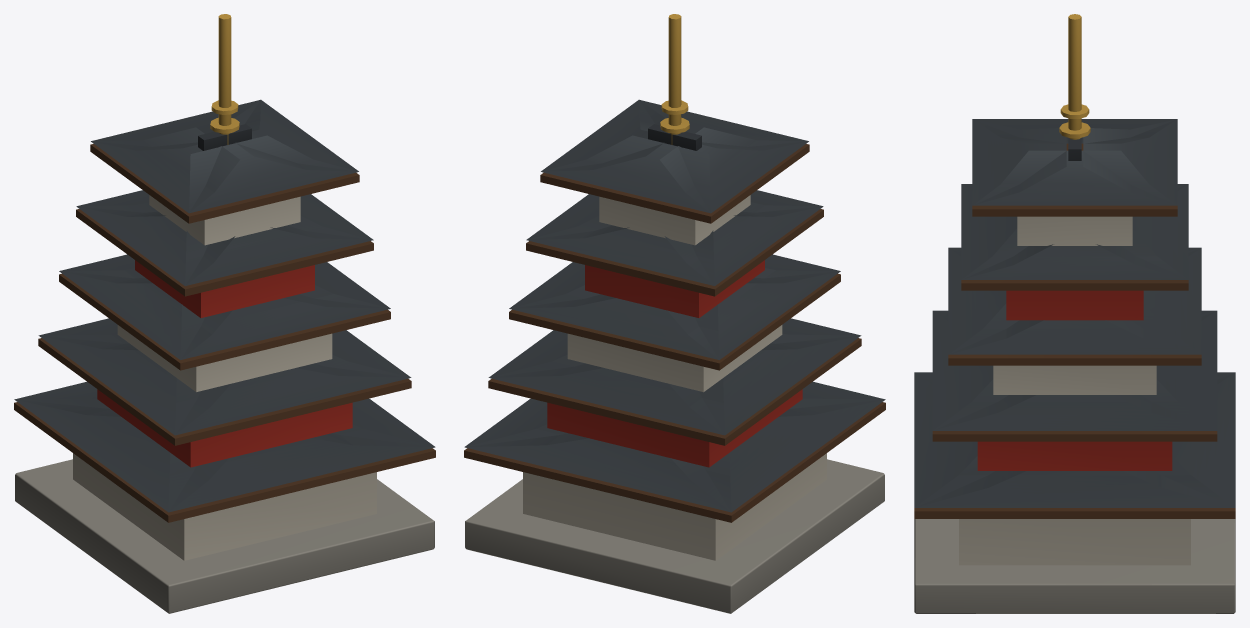
File: prop.bamboo_pagoda.lod1.glb
3 renders of one model, left to right at view 1: azimuth 30°, elevation 25°; view 2: azimuth 150°, elevation 25°; view 3: azimuth 270°, elevation 25°, orthographic. The views are drawn at different scales.
Visible parts, largest first — view 1: bamboo_pagoda; view 2: bamboo_pagoda; view 3: bamboo_pagoda.
Boxes of the visible parts, x1=… form: bamboo_pagoda: x1=14, y1=14, x2=435, y2=613; bamboo_pagoda: x1=464, y1=14, x2=885, y2=613; bamboo_pagoda: x1=914, y1=14, x2=1235, y2=613.
Bounding box in the file's own units: 8.6 × 15.65 × 8.6.
